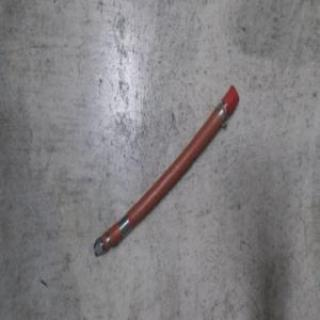Hosetrack_idkeyframe: (92, 88, 241, 262)
